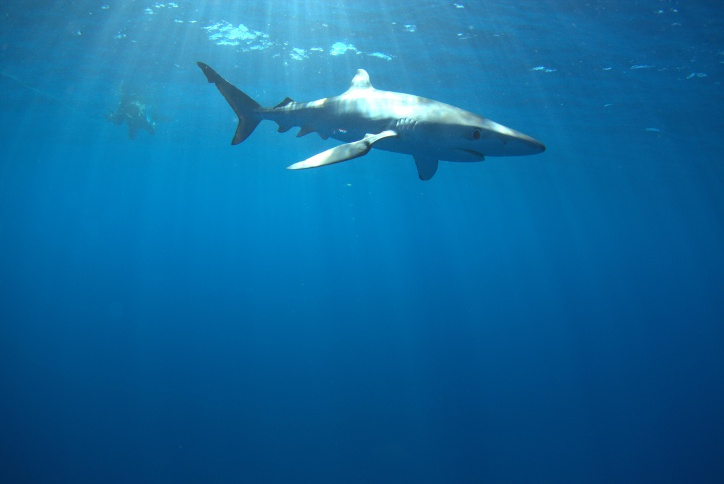Azul: (184, 46, 552, 205)
